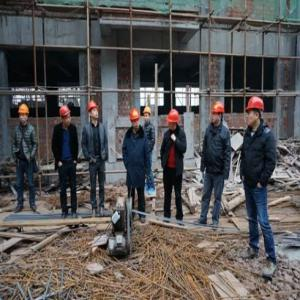red: (246, 96, 265, 128), (211, 100, 225, 124), (168, 108, 181, 130), (130, 108, 141, 131), (60, 105, 72, 126), (88, 100, 100, 121)
yellow: (19, 105, 30, 126), (143, 106, 152, 124)
